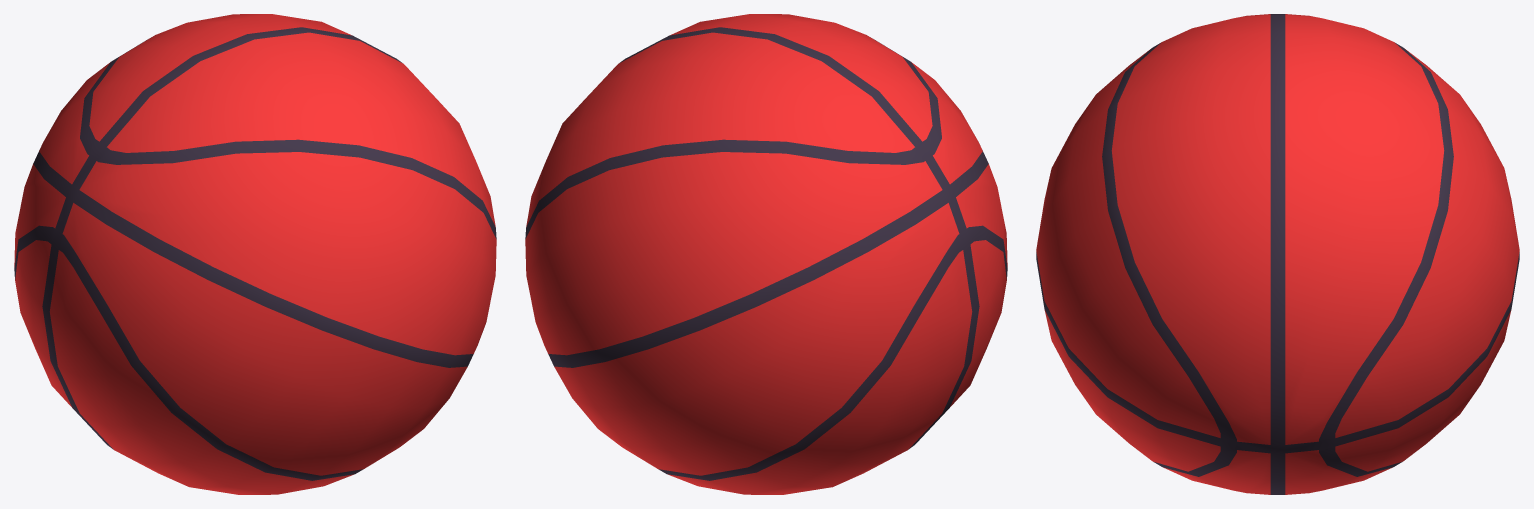
Rendered from Basketball_Red.fbx.
The picture shows the model from 3 angles, left to right: view 1: azimuth 30°, elevation 25°; view 2: azimuth 150°, elevation 25°; view 3: azimuth 270°, elevation 25°; orthographic projection.
Visible parts, largest first — view 1: Basketball_Red; view 2: Basketball_Red; view 3: Basketball_Red.
Boxes of the visible parts, x1,y1,x2,y2 form: Basketball_Red: [14, 14, 496, 494]; Basketball_Red: [525, 14, 1007, 494]; Basketball_Red: [1036, 14, 1519, 494].
Bounding box in the file's own units: 95.79 × 95.65 × 95.72.
